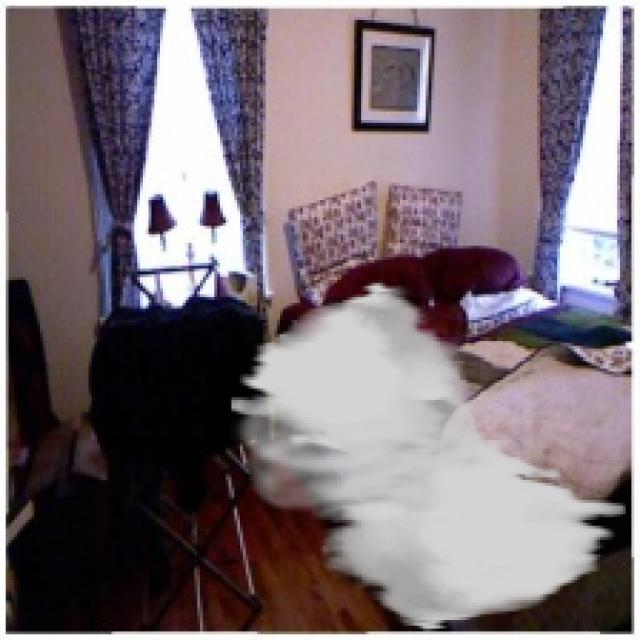smoke: (228, 280, 626, 631)
